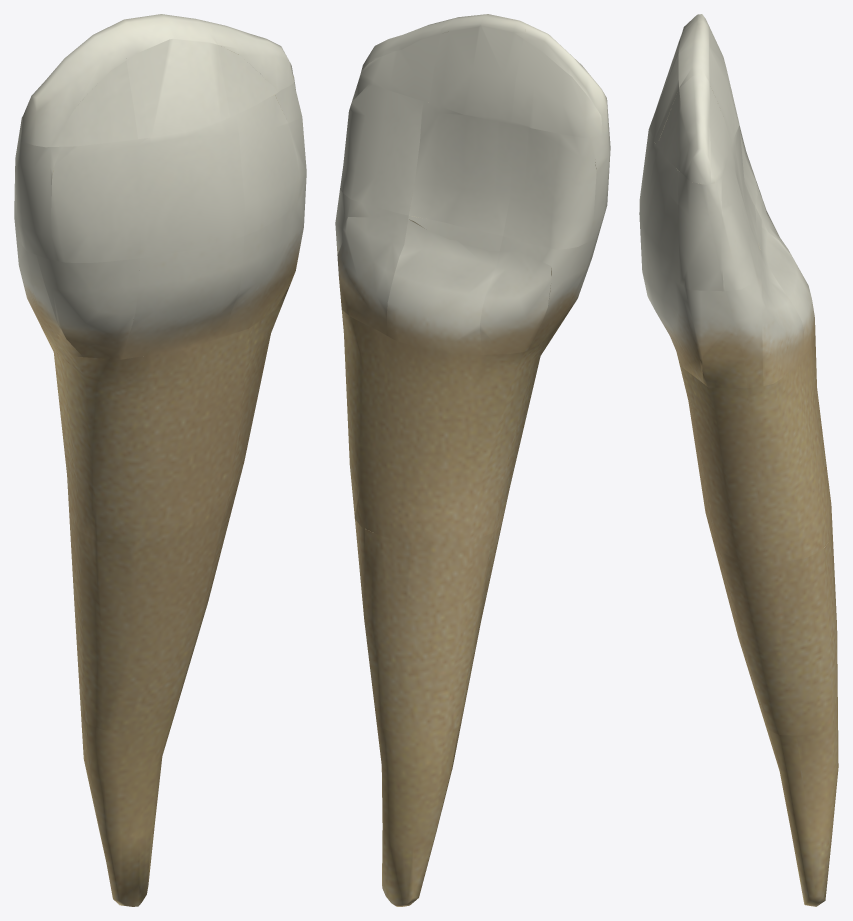
The model's file is 43_Left_Lower_Canine.glb.
3 renders of one model, left to right at view 1: azimuth 30°, elevation 25°; view 2: azimuth 150°, elevation 25°; view 3: azimuth 270°, elevation 25°, orthographic. The views are drawn at different scales.
Parts seen in each view (by area): view 1: Human_Teeth_Lower_Canine.002; view 2: Human_Teeth_Lower_Canine.002; view 3: Human_Teeth_Lower_Canine.002.
Part boxes in pixels (<box>): Human_Teeth_Lower_Canine.002: <box>14,14,306,906</box>; Human_Teeth_Lower_Canine.002: <box>335,14,610,906</box>; Human_Teeth_Lower_Canine.002: <box>639,14,838,906</box>.
Size of the model in its own units: 1.1 by 3.53 by 0.7441.
Materials: 30 (30 with a texture image).
